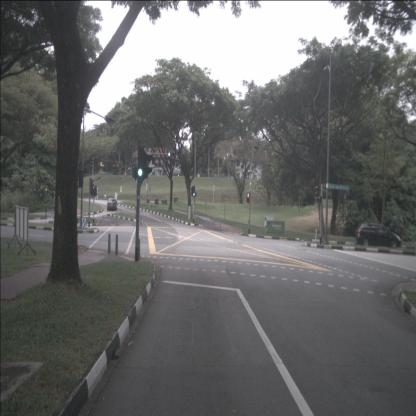vehicle-car: (356, 222, 402, 250), (107, 198, 117, 211), (171, 168, 181, 177)
